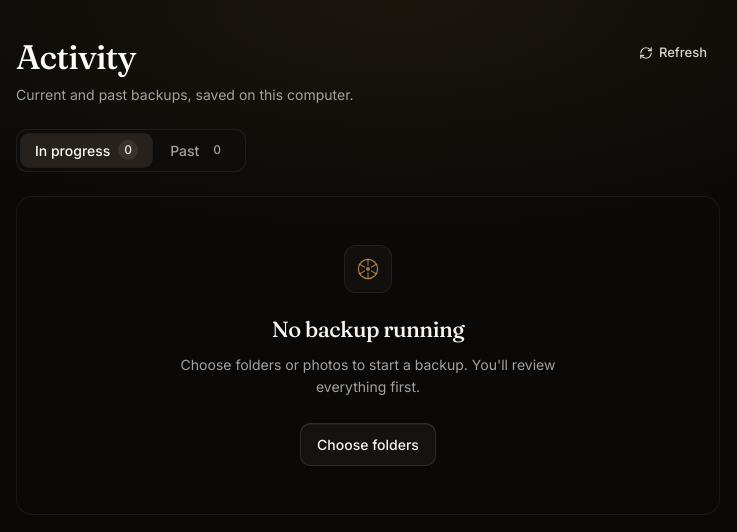
Test: Activity › shows the two tabs and empty states
Check: the tab "In progress 0" is shown, box [21, 134, 152, 166]
Check: the heading "No backup running" is shown, box [272, 312, 464, 346]
Click the tab "Past 0" at (199, 150), box [156, 134, 241, 166]
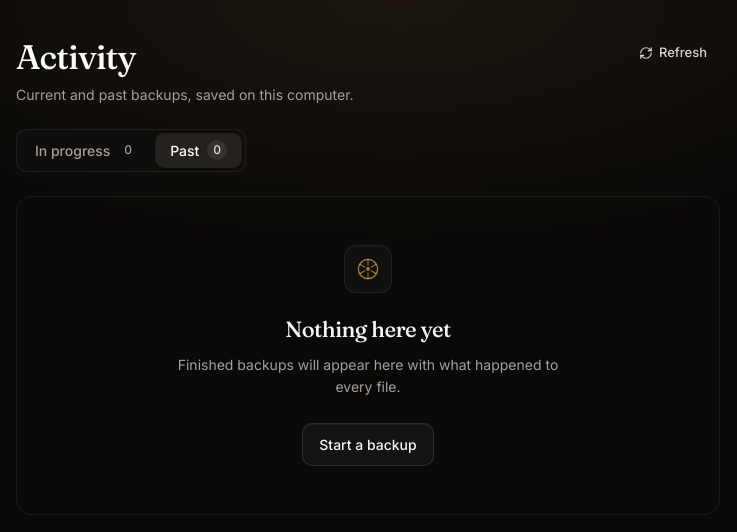
Check: the heading "Nothing here yet" is shown, box [285, 312, 451, 346]
